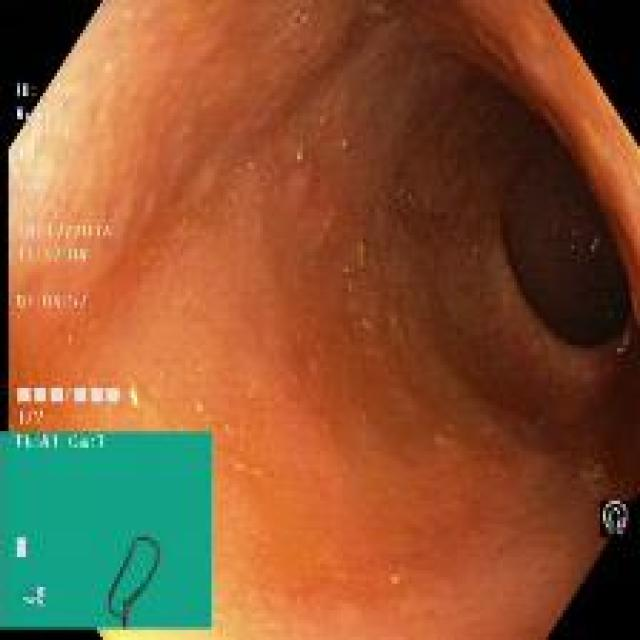ulcerative-colitis-grade-1: (9, 3, 640, 638)
